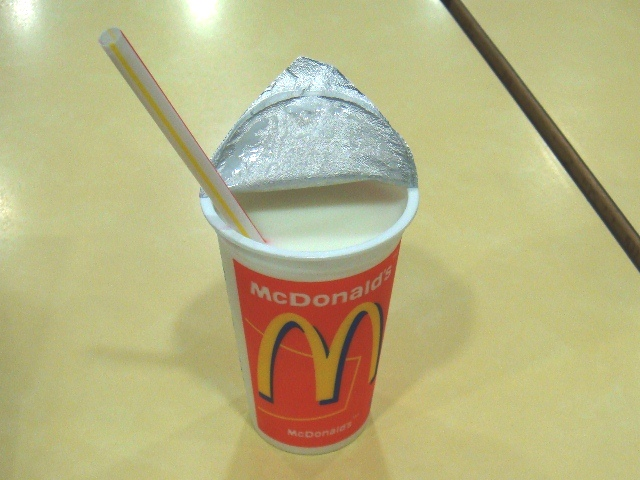mcdonalds: (253, 301, 384, 406)
